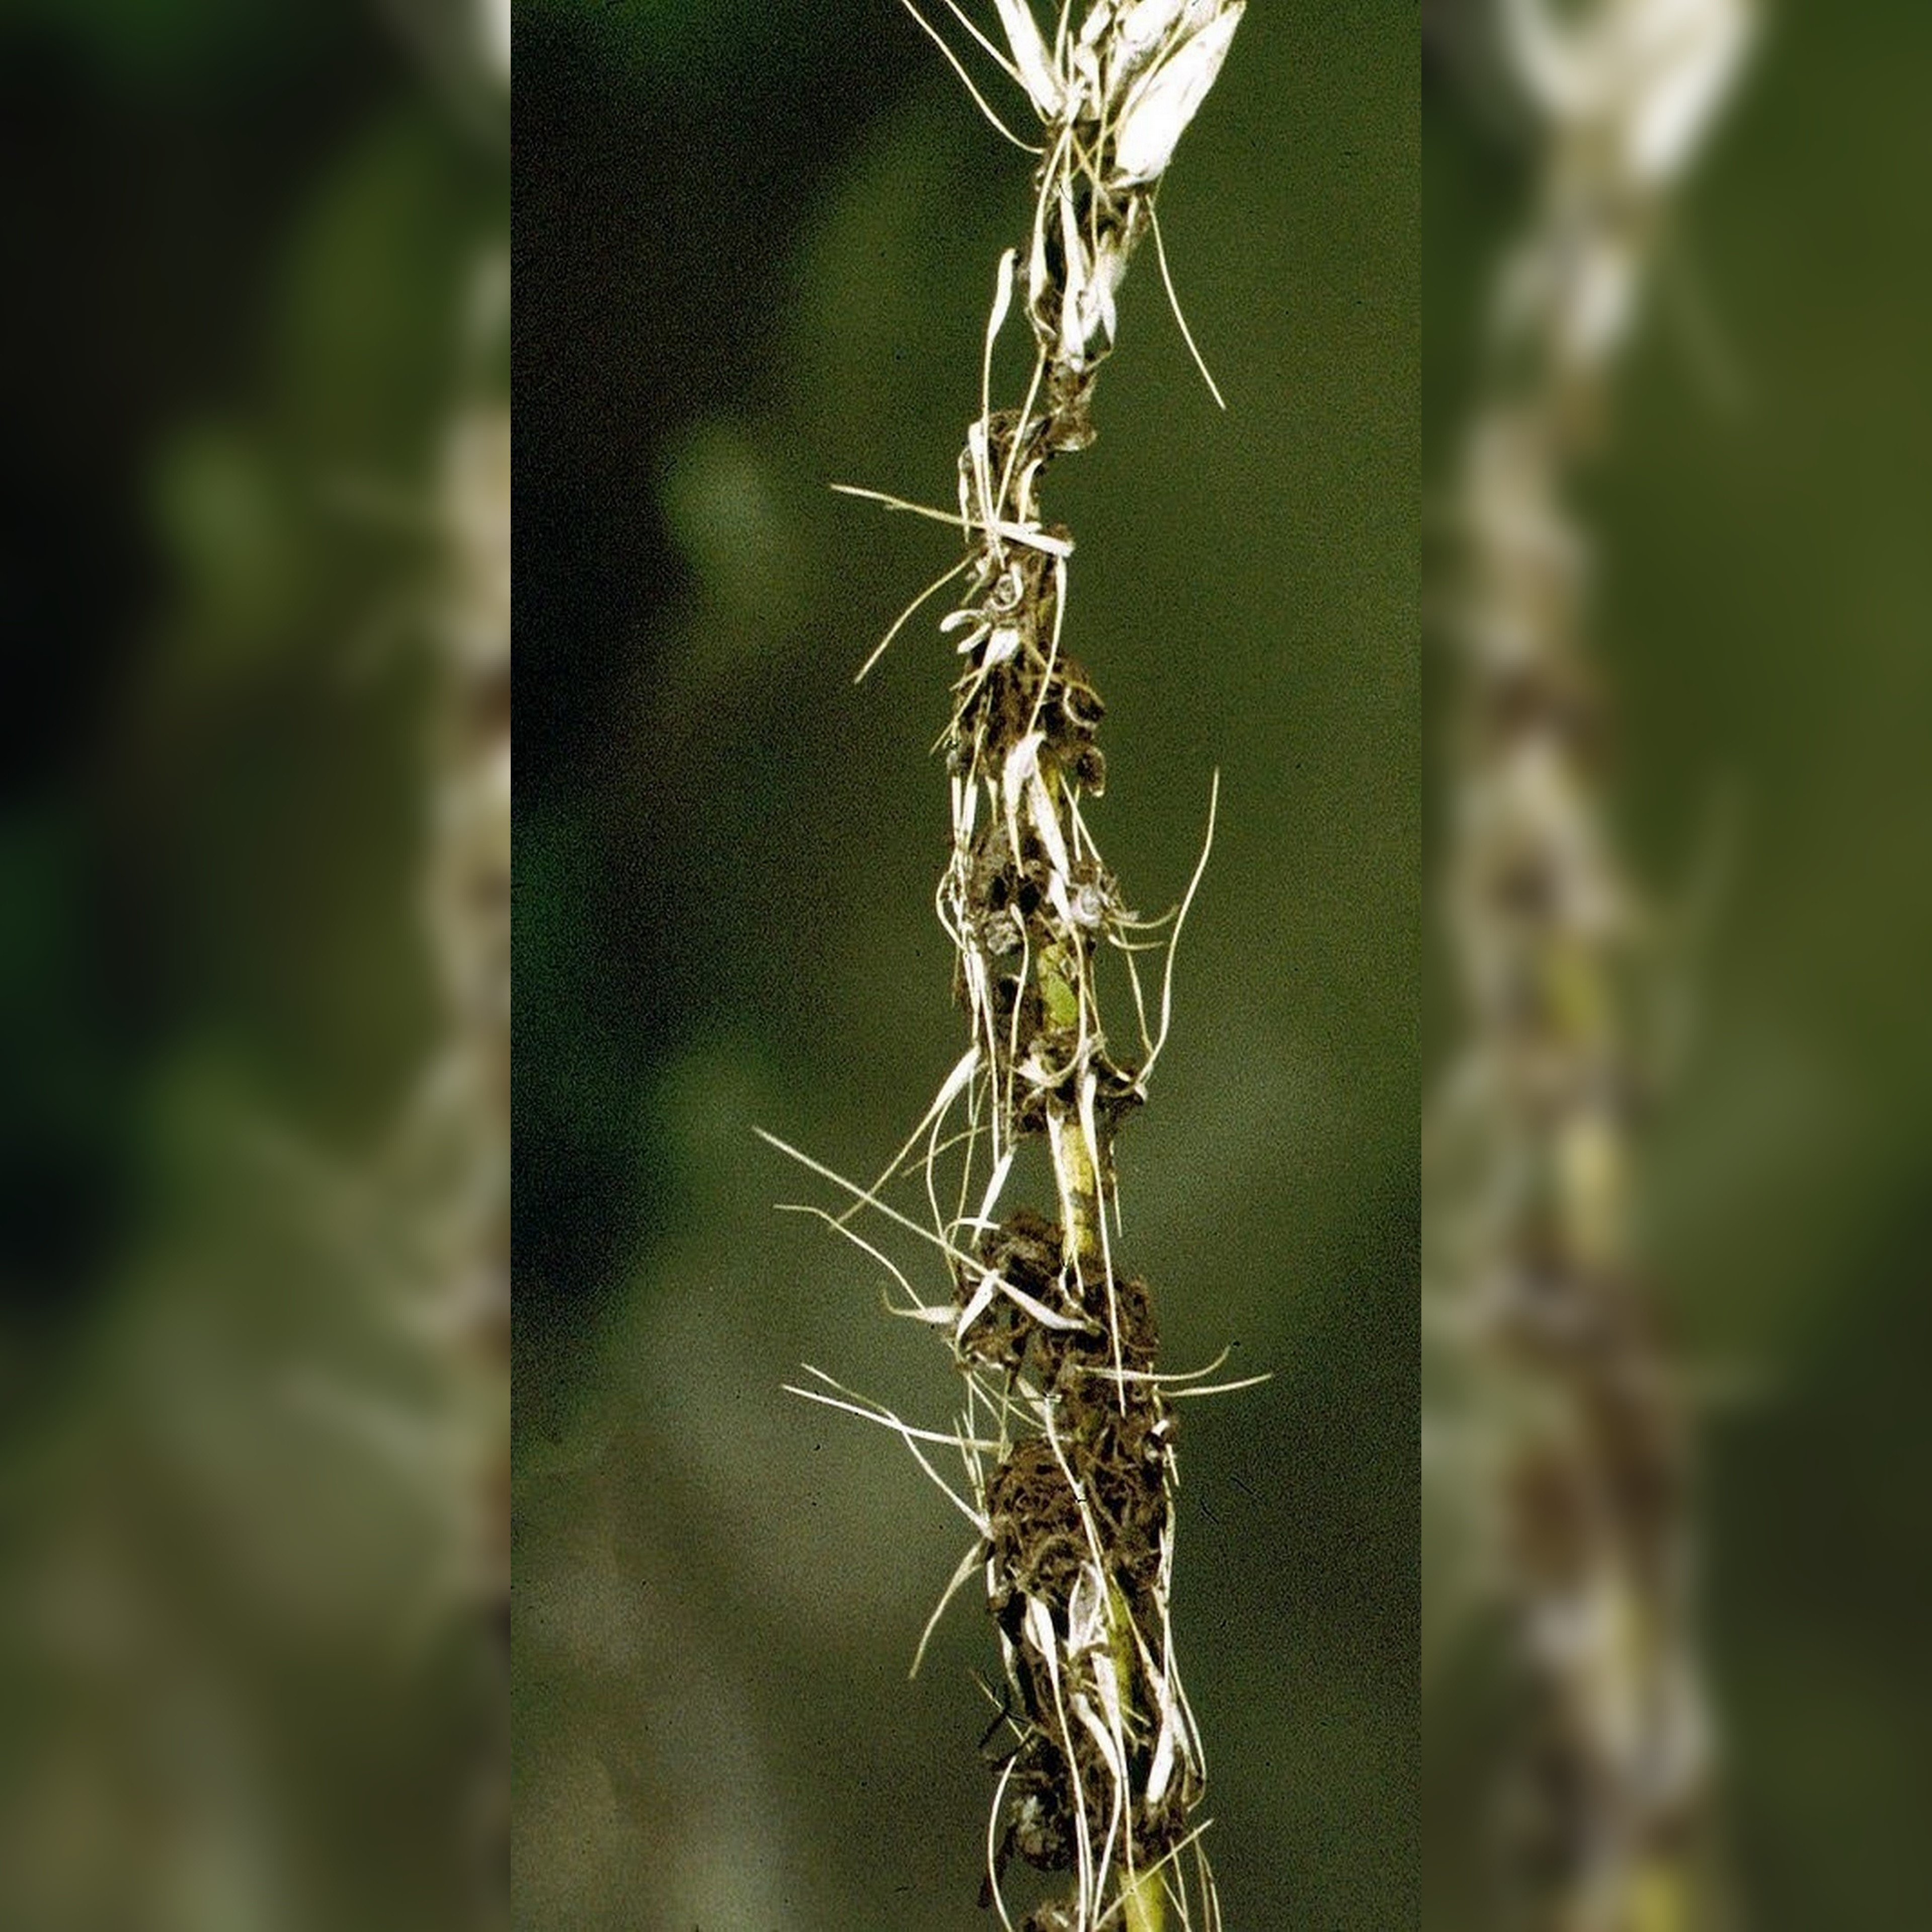Wheat Loose Smut: (833, 106, 1263, 1718)
